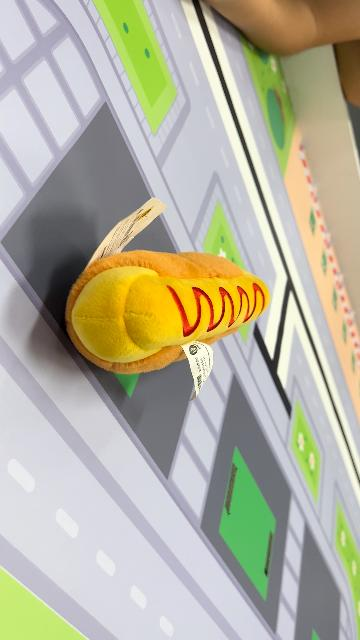hotdog: (65, 248, 272, 376)
